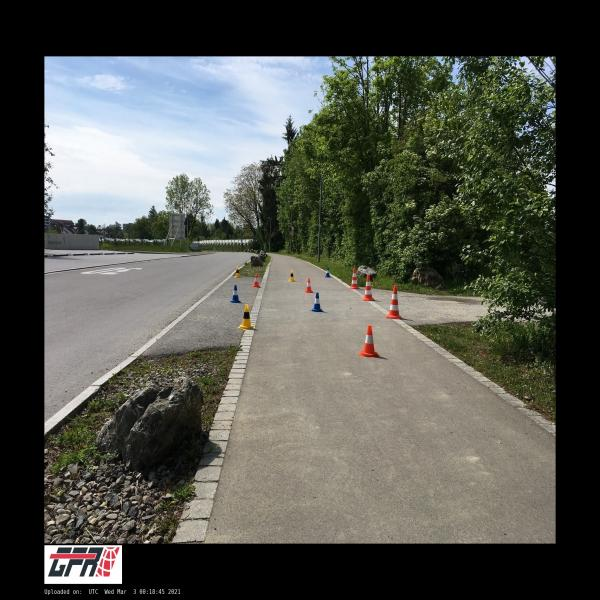blue_cone: (310, 292, 323, 312), (230, 285, 241, 303), (325, 267, 331, 277)
large_orange_cone: (386, 285, 402, 319), (362, 275, 375, 301), (350, 268, 360, 289)
orange_cone: (358, 325, 379, 358), (305, 278, 313, 293), (252, 274, 260, 287)
yellow_cone: (238, 304, 255, 330), (234, 266, 240, 278), (289, 270, 295, 281)
